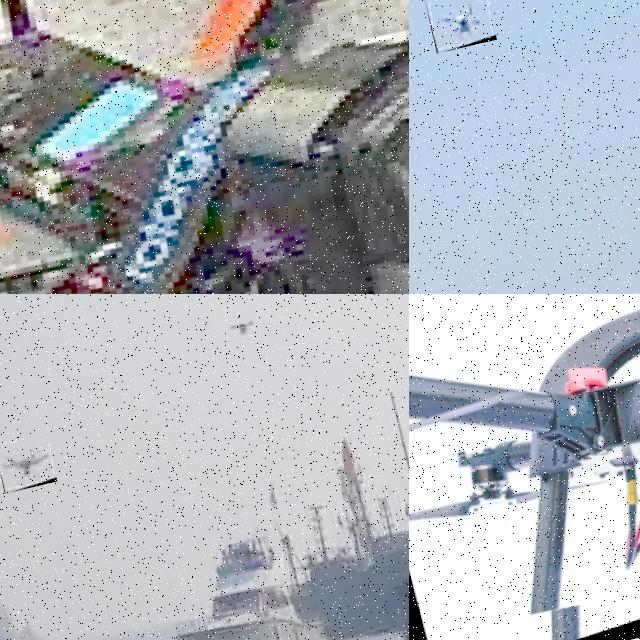0: (422, 0, 496, 53), (0, 434, 57, 493)
drone: (0, 0, 409, 294), (409, 294, 640, 640)
